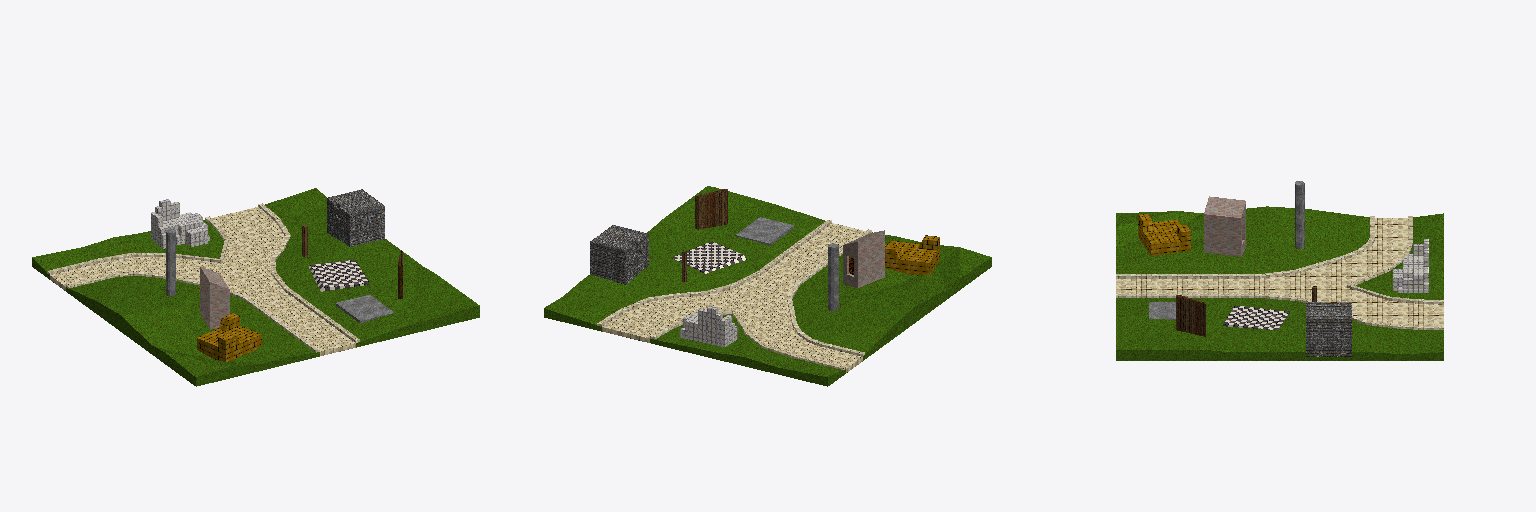
3 views of the same model, side by side, from view 1: azimuth 30°, elevation 25°; view 2: azimuth 150°, elevation 25°; view 3: azimuth 270°, elevation 25° (orthographic).
Visible parts, largest first — view 1: entity0_brush63, entity0_brush0, entity0_brush57, entity0_brush45, entity0_brush59, entity0_brush87, entity0_brush65, entity0_brush61, entity0_brush60, entity0_brush54, entity0_brush51, entity0_brush66 (+22 smaller); view 2: entity0_brush57, entity0_brush63, entity0_brush0, entity0_brush87, entity0_brush61, entity0_brush59, entity0_brush65, entity0_brush54, entity0_brush15, entity0_brush51, entity0_brush3, entity0_brush41 (+24 smaller); view 3: entity0_brush45, entity0_brush57, entity0_brush87, entity0_brush60, entity0_brush0, entity0_brush65, entity0_brush63, entity0_brush66, entity0_brush16, entity0_brush61, entity0_brush3, entity0_brush59 (+22 smaller).
Part boxes in pixels (bbox=[...]): entity0_brush63: bbox=[276, 252, 417, 293]; entity0_brush0: bbox=[251, 291, 355, 355]; entity0_brush57: bbox=[66, 276, 174, 316]; entity0_brush45: bbox=[184, 309, 319, 362]; entity0_brush59: bbox=[309, 302, 412, 347]; entity0_brush87: bbox=[329, 189, 384, 246]; entity0_brush65: bbox=[283, 234, 417, 265]; entity0_brush61: bbox=[299, 277, 416, 306]; entity0_brush60: bbox=[413, 273, 479, 318]; entity0_brush54: bbox=[101, 303, 182, 332]; entity0_brush51: bbox=[164, 350, 227, 386]; entity0_brush66: bbox=[201, 269, 229, 329]; entity0_brush57: bbox=[804, 297, 896, 360]; entity0_brush63: bbox=[652, 228, 760, 292]; entity0_brush0: bbox=[761, 223, 864, 283]; entity0_brush87: bbox=[590, 225, 645, 283]; entity0_brush61: bbox=[675, 215, 771, 267]; entity0_brush59: bbox=[737, 205, 824, 259]; entity0_brush65: bbox=[629, 232, 682, 294]; entity0_brush54: bbox=[862, 287, 916, 335]; entity0_brush15: bbox=[544, 297, 615, 331]; entity0_brush51: bbox=[936, 247, 991, 288]; entity0_brush3: bbox=[885, 241, 939, 275]; entity0_brush41: bbox=[672, 241, 746, 273]; entity0_brush45: bbox=[1116, 240, 1259, 273]; entity0_brush57: bbox=[1268, 209, 1369, 250]; entity0_brush87: bbox=[1306, 303, 1351, 356]; entity0_brush60: bbox=[1116, 330, 1211, 360]; entity0_brush0: bbox=[1116, 279, 1258, 293]; entity0_brush65: bbox=[1234, 322, 1346, 360]; entity0_brush63: bbox=[1213, 298, 1305, 349]; entity0_brush66: bbox=[1204, 196, 1240, 255]; entity0_brush16: bbox=[1367, 325, 1405, 360]; entity0_brush61: bbox=[1156, 298, 1245, 344]; entity0_brush3: bbox=[1138, 220, 1190, 255]; entity0_brush59: bbox=[1116, 298, 1222, 329].
Bounding box in the file's own units: 2048 × 496 × 2048.
Materials: 11 (11 with a texture image).